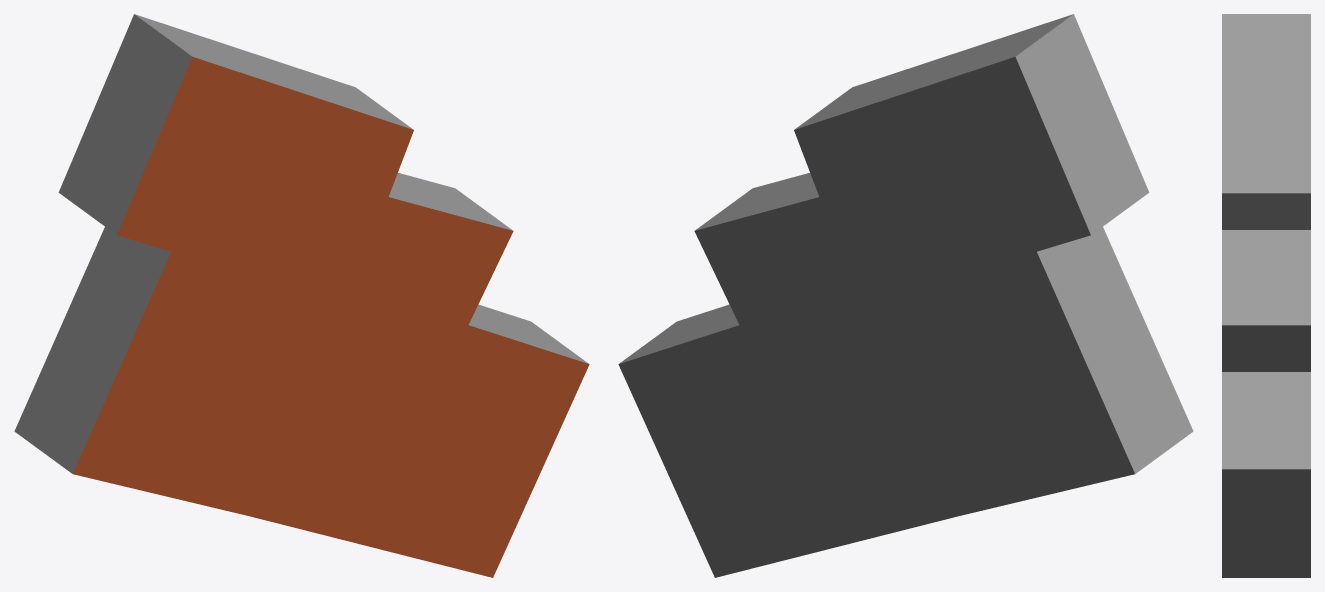
File: construction_2847_assumed_A_Casa_h6m.obj
3 renders of one model, left to right at view 1: azimuth 30°, elevation 25°; view 2: azimuth 150°, elevation 25°; view 3: azimuth 270°, elevation 25°, orthographic. The views are drawn at different scales.
Visible parts, largest first — view 1: construction_2847_assumed_A_Casa; view 2: construction_2847_assumed_A_Casa; view 3: construction_2847_assumed_A_Casa.
Boxes of the visible parts, box(x1,y1,x2,y2) form: construction_2847_assumed_A_Casa: box(14, 14, 589, 577); construction_2847_assumed_A_Casa: box(618, 14, 1193, 577); construction_2847_assumed_A_Casa: box(1222, 14, 1310, 577).
Size of the model in its own units: 30.68 by 33.72 by 6.
